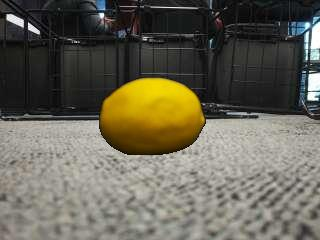lemon: (100, 78, 205, 154)
